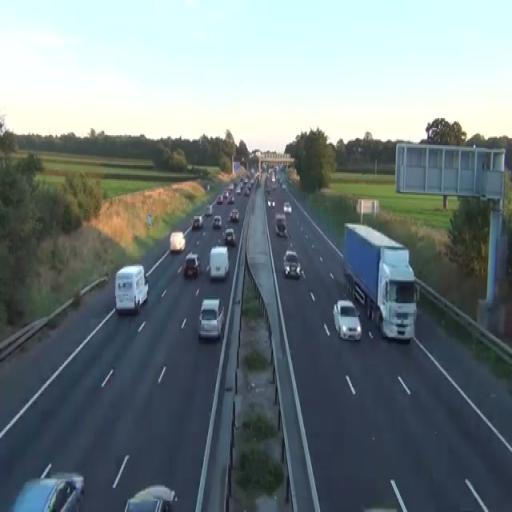Car: (12, 466, 85, 512), (124, 485, 178, 512), (332, 299, 362, 342), (198, 298, 226, 342), (283, 250, 301, 279), (184, 253, 200, 279), (170, 231, 186, 253), (224, 227, 236, 247), (192, 216, 204, 230), (212, 214, 222, 230), (229, 209, 239, 223)
Truck: (342, 222, 417, 343), (115, 264, 149, 315), (210, 246, 230, 280)
